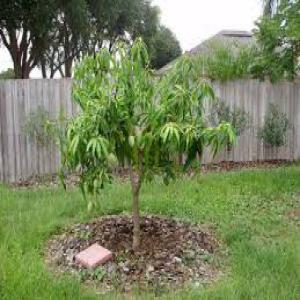Tree: (59, 34, 236, 244)
